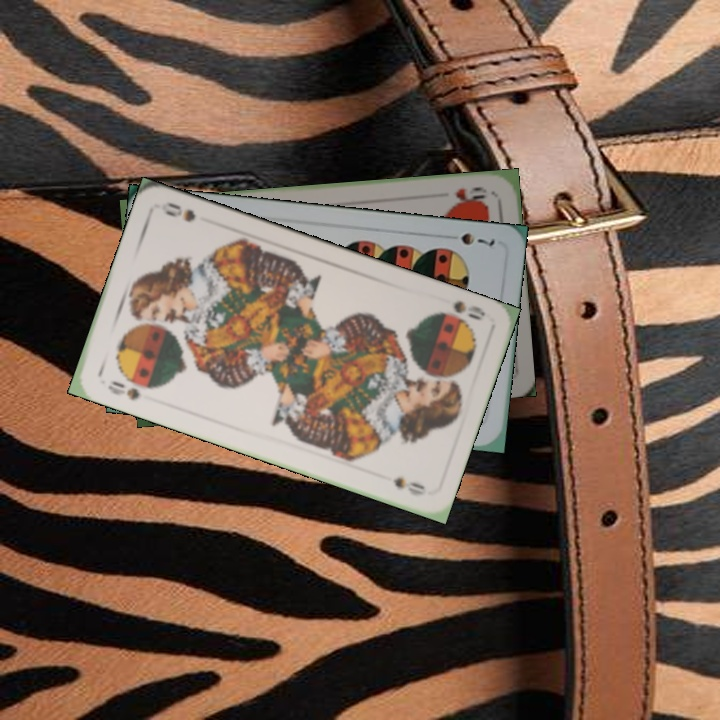HO: (447, 182, 490, 208)
S7: (441, 228, 498, 249)
SO: (429, 296, 488, 327), (104, 376, 142, 404)
